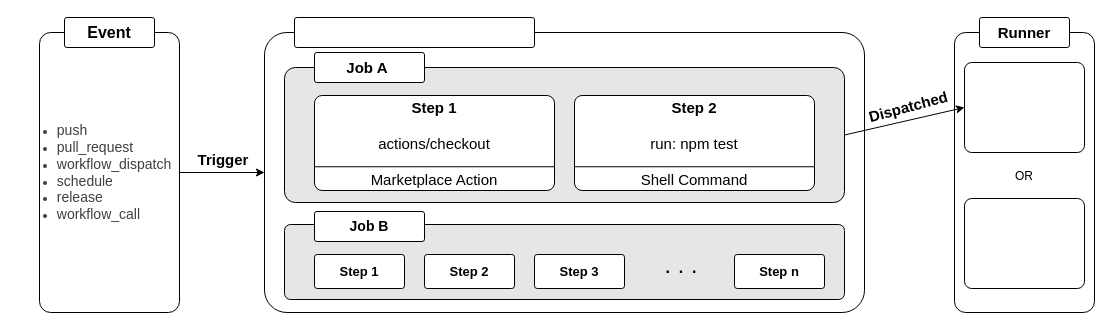
The diagram is 1112 pixels wide and 330 high, and some of its shapes have lost their labels. The box of each missing label's shape, as (x1, y1, x2, y2) in pixels:
Github-Hosted Runner: (964, 62, 1084, 152)
Self-Hosted Runner: (964, 198, 1084, 288)
Workflow (.github/workflows/*.yml): (294, 16, 534, 48)
